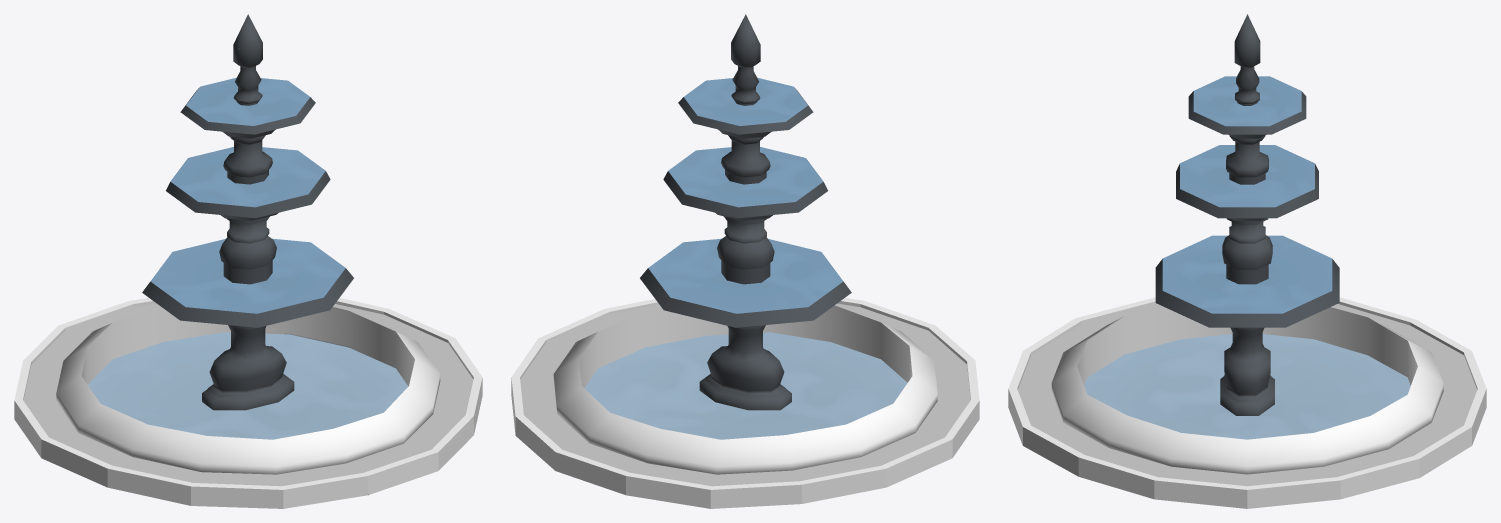
File: Fonte.fbx
The picture shows the model from 3 angles, left to right: view 1: azimuth 30°, elevation 25°; view 2: azimuth 150°, elevation 25°; view 3: azimuth 270°, elevation 25°; orthographic projection.
Parts seen in each view (by area): view 1: FonteModelo; view 2: FonteModelo; view 3: FonteModelo.
Boxes of the visible parts, <box> form: FonteModelo: <box>14,14,482,508</box>; FonteModelo: <box>511,14,979,508</box>; FonteModelo: <box>1008,14,1486,508</box>.
Bounding box in the file's own units: 2114 × 1921 × 2114.
